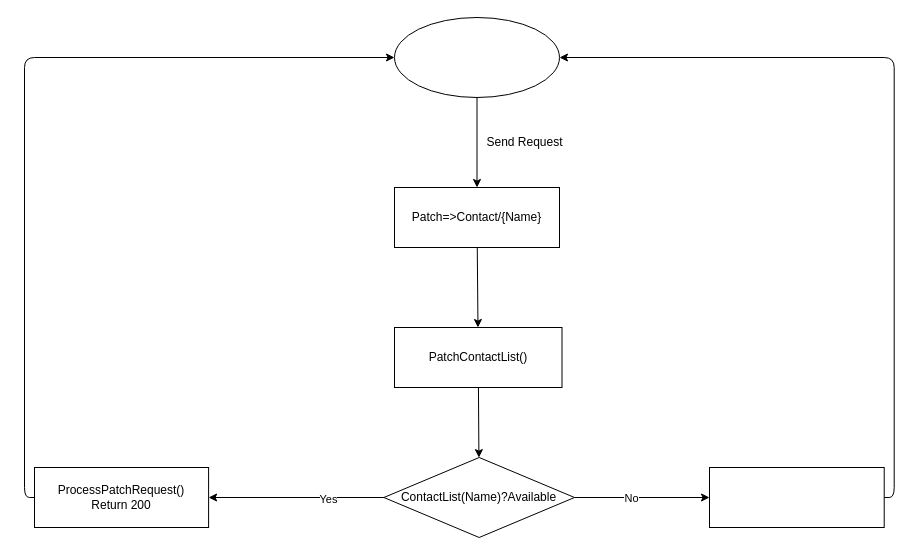
Some shapes in this 920 by 555 pixel diagram are drawn without their labels. The centre of each missing label's shape, as x and y in pixels:
Client: pixel 477 57
SendResponseError() Return 400: pixel 796 497
